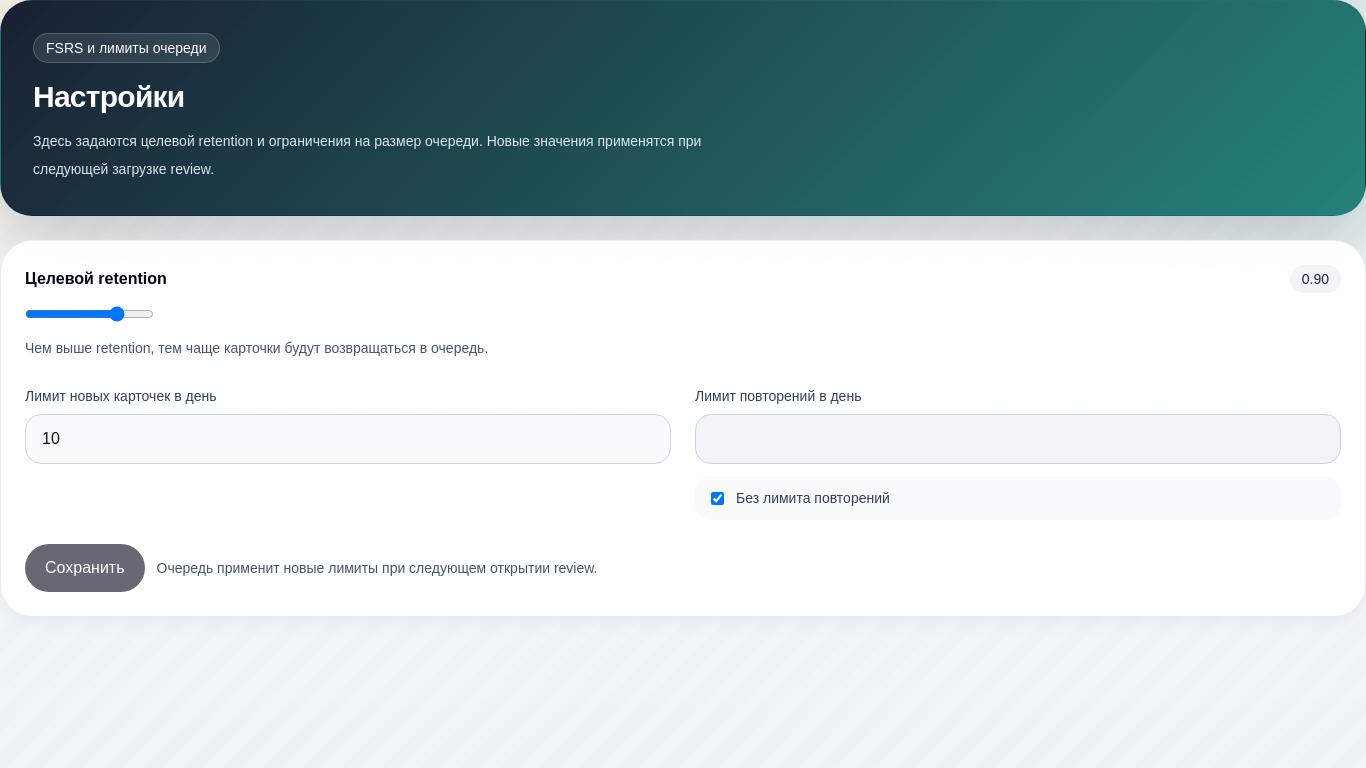
SettingsPage › shows inline validation errors before save
Expected: the heading "Настройки" is shown, top-left (33, 80), bottom-right (184, 113)
Replace the text in the number field labelled "Лимит новых карточек в день" with "-1" at x=348, y=439, box top-left (25, 414), bottom-right (671, 464)
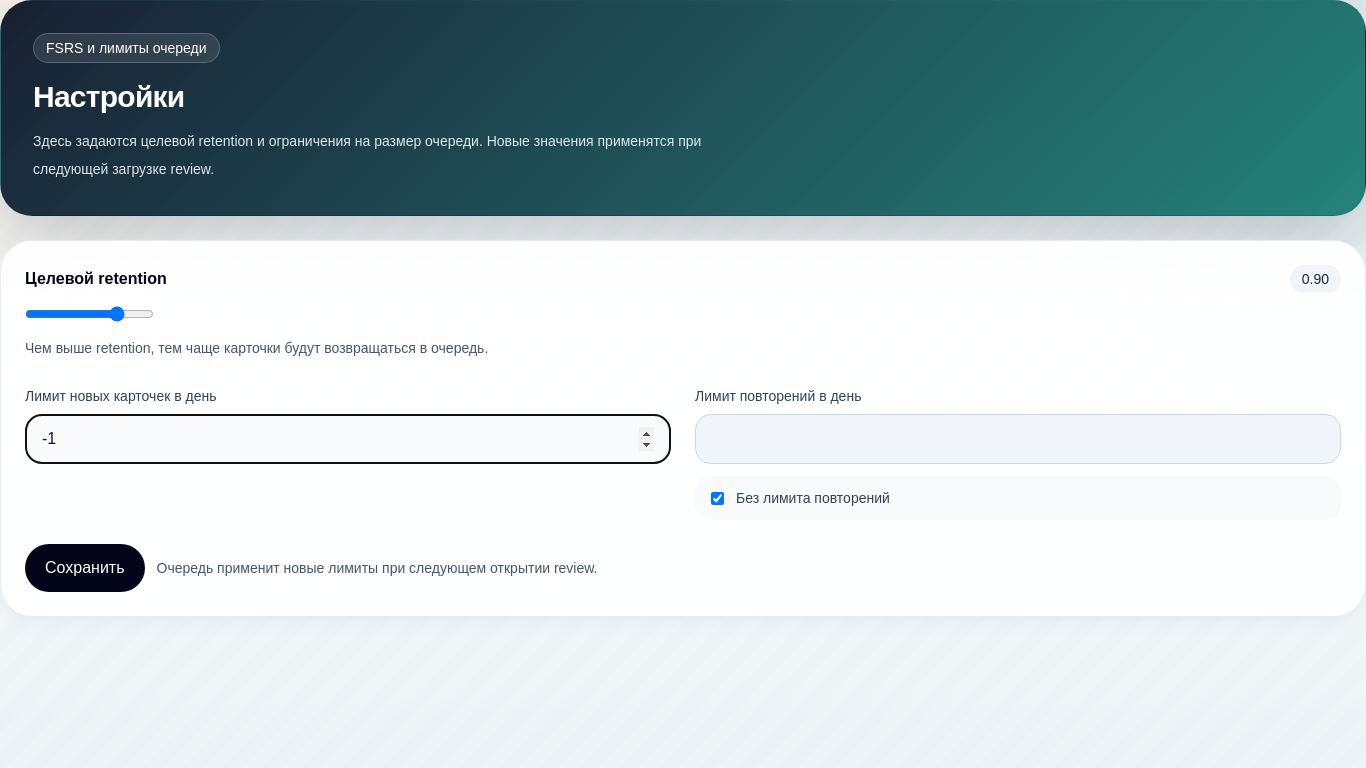
Click the button "Сохранить" at x=85, y=568, box top-left (25, 544), bottom-right (144, 592)
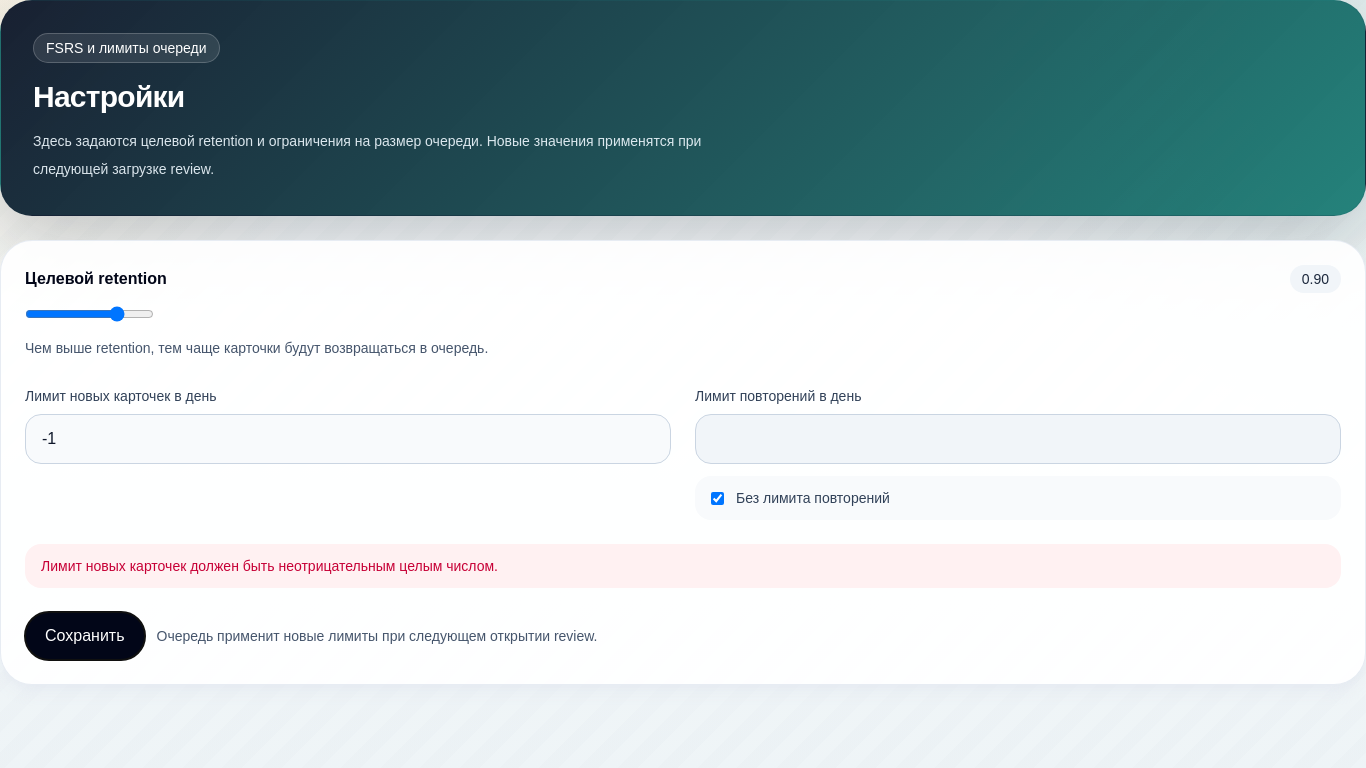
Expected: the text "Лимит новых карточек должен быть неотрицательным целым числом" is shown, top-left (41, 558), bottom-right (498, 574)
